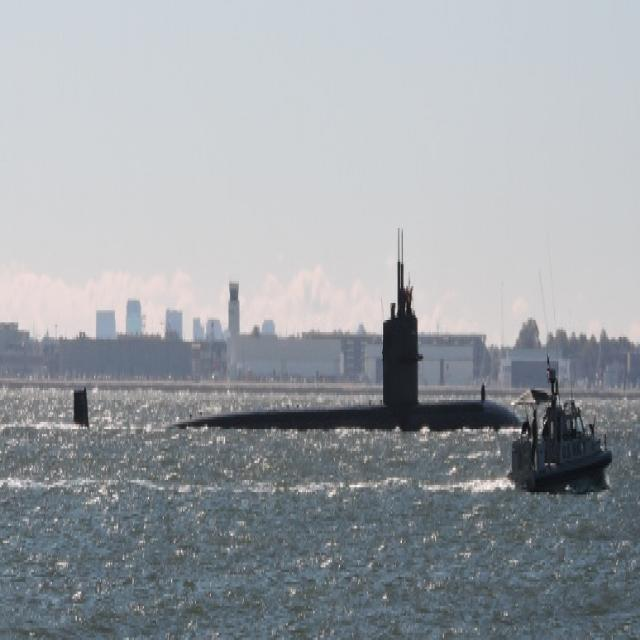submarine: (72, 229, 522, 428)
